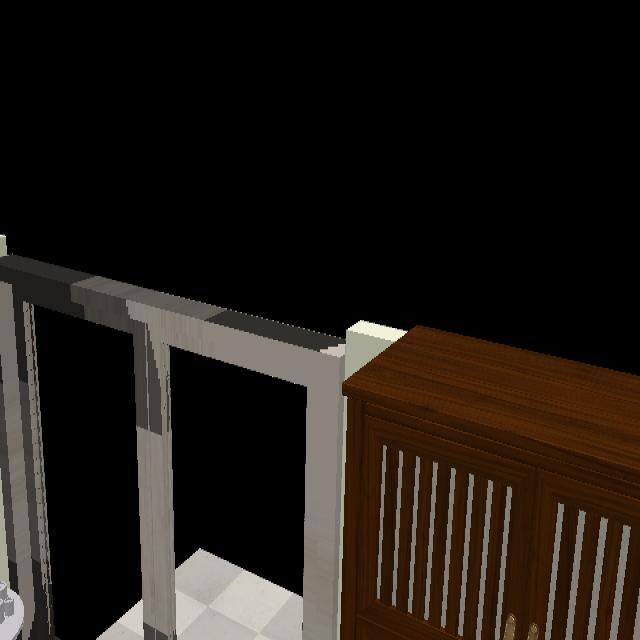wardrobe: (339, 327, 640, 640)
